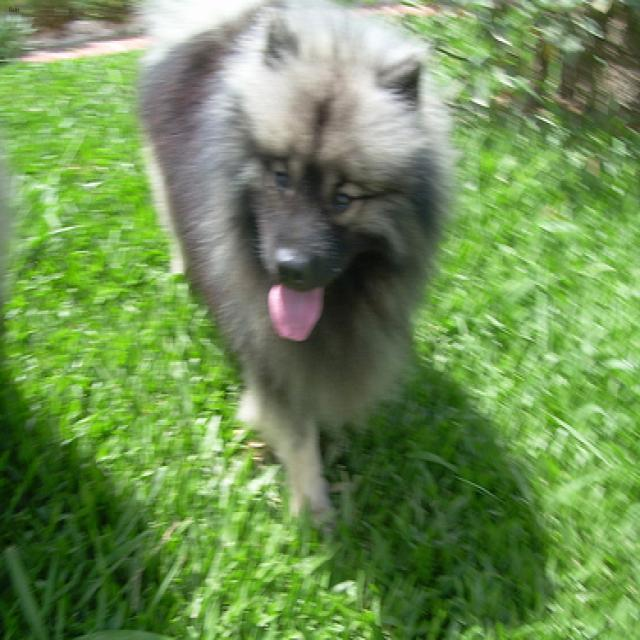dog-keeshond: (127, 2, 458, 541)
